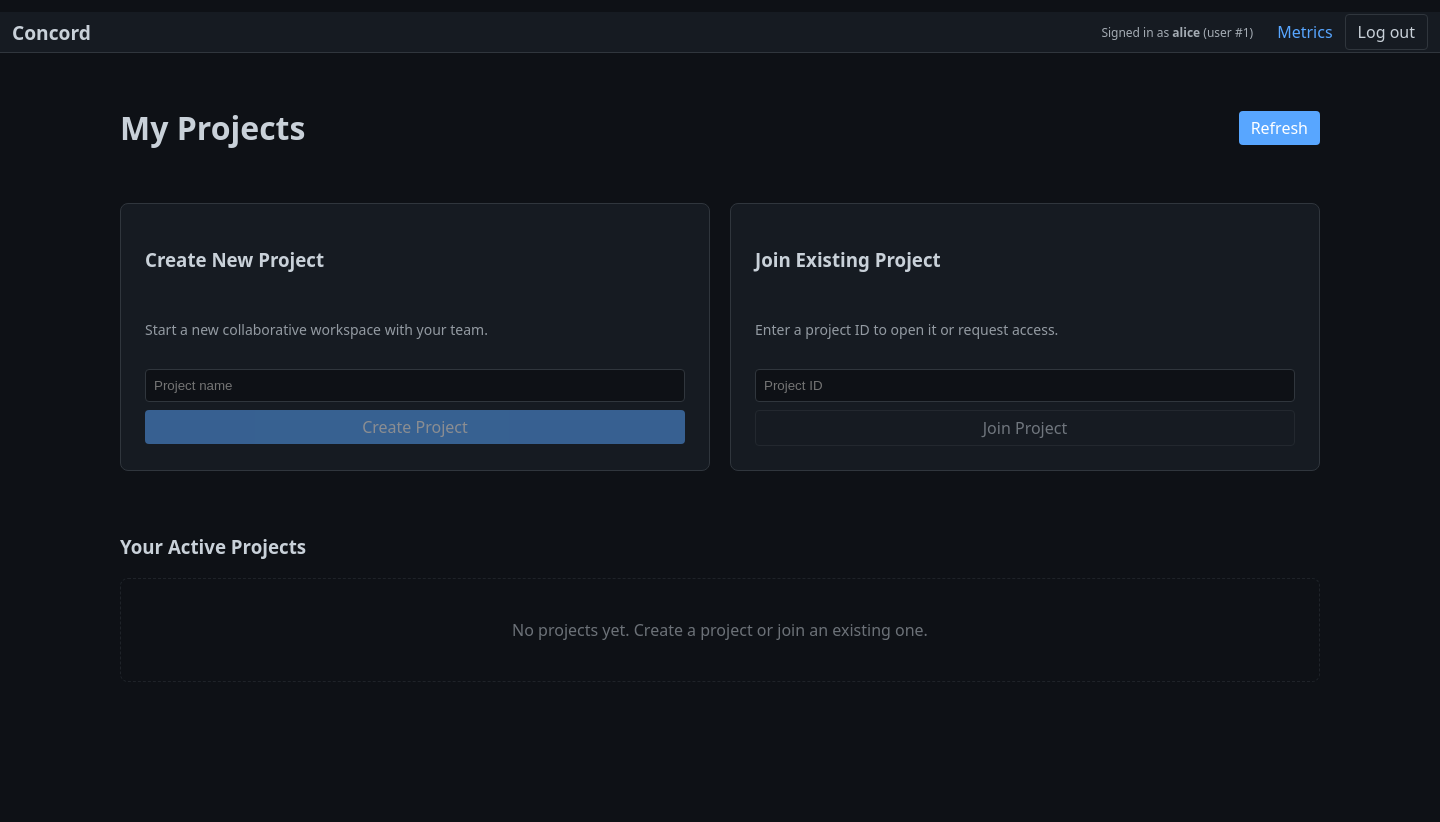
Test case: DashboardPage › creates a project and appends it to the list, clearing the input
Type "new-project" into the field with placeholder "Project name" at (415, 386), box [145,369,685,402]
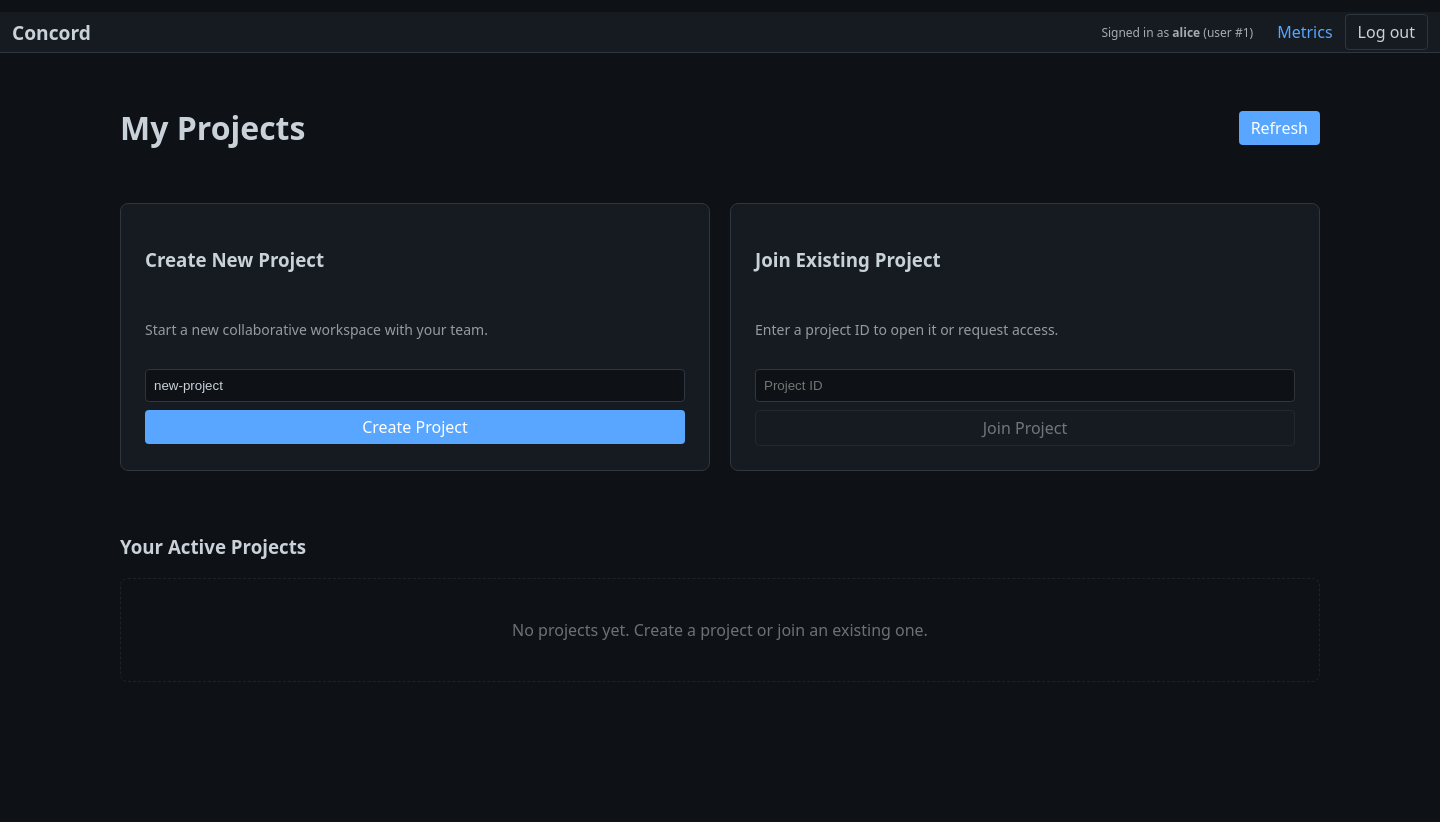
Click the button "Create Project" at (415, 427), box [145,410,685,444]
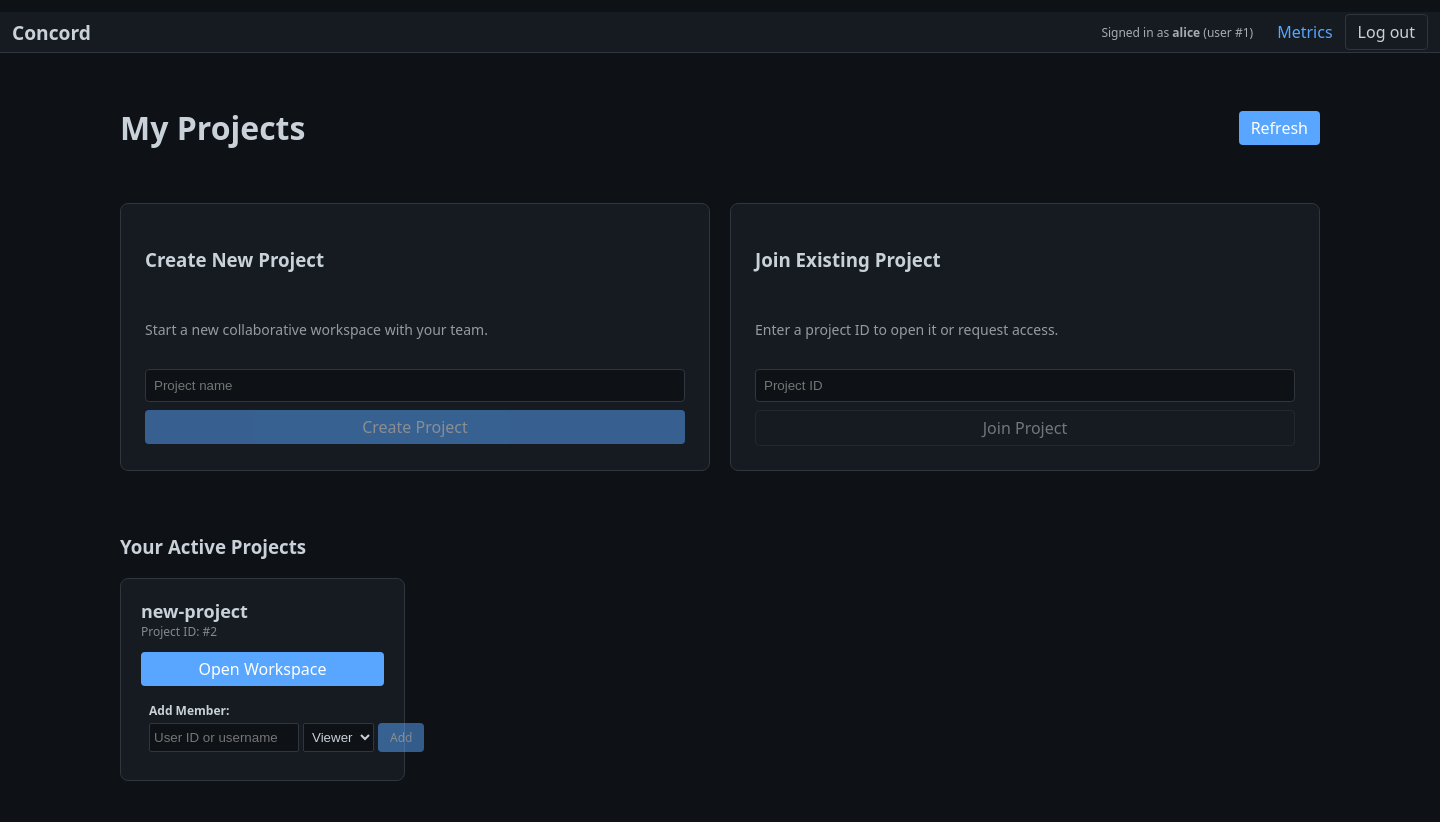
Expected: the heading "new-project" is shown, [141,599,248,623]
Expected: the field with placeholder "Project name" is empty, [145,369,685,402]
